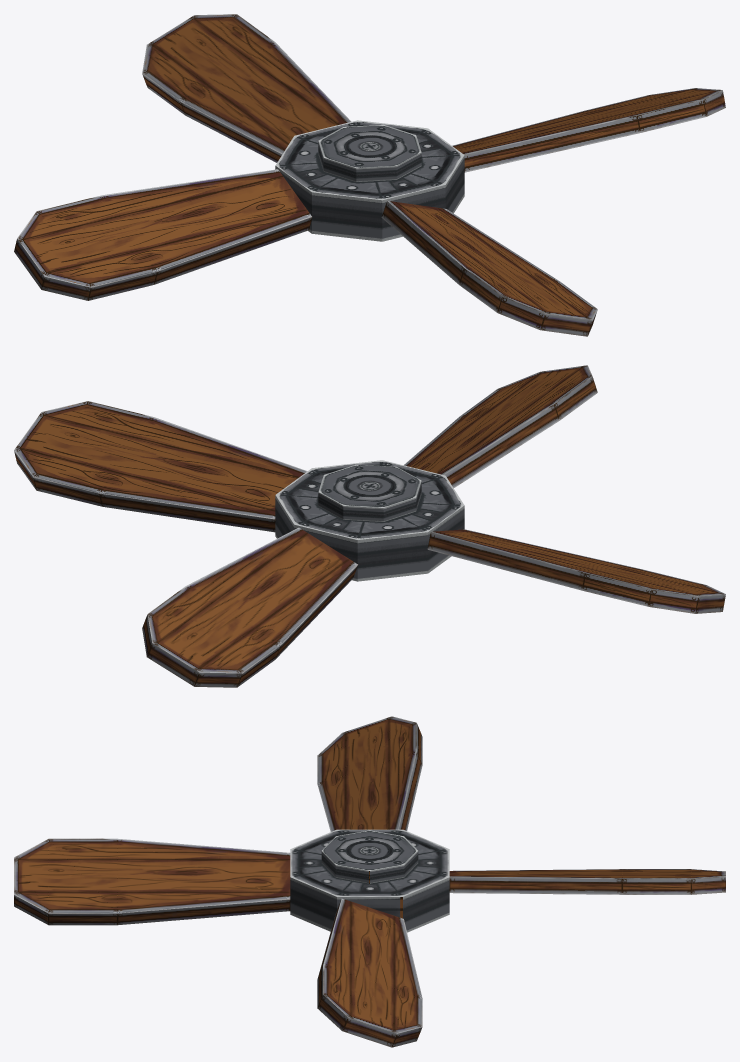
The model's file is SimpleRotor.fbx.
3 renders of one model, top to bottom at view 1: azimuth 30°, elevation 25°; view 2: azimuth 150°, elevation 25°; view 3: azimuth 270°, elevation 25°, orthographic. The views are drawn at different scales.
Visible parts, largest first — view 1: Rotor; view 2: Rotor; view 3: Rotor.
Part boxes in pixels (bbox=[...]): Rotor: bbox=[14, 14, 725, 336]; Rotor: bbox=[14, 365, 725, 687]; Rotor: bbox=[14, 716, 725, 1047].
Size of the model in its own units: 206 by 20 by 206.
1 material, 1 textured.
